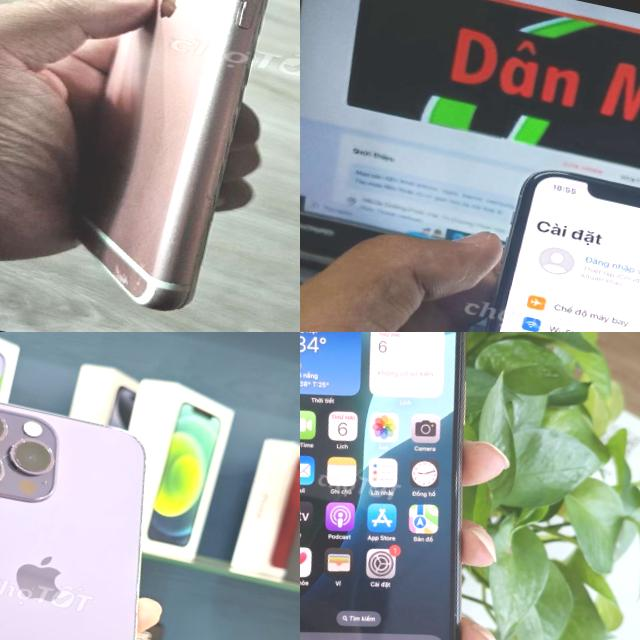gen_14: (0, 380, 202, 640)
gen_6: (78, 0, 267, 309)
gen_x_xs: (300, 332, 535, 640), (434, 159, 640, 332)
scratch: (92, 238, 198, 318), (217, 0, 282, 38)
